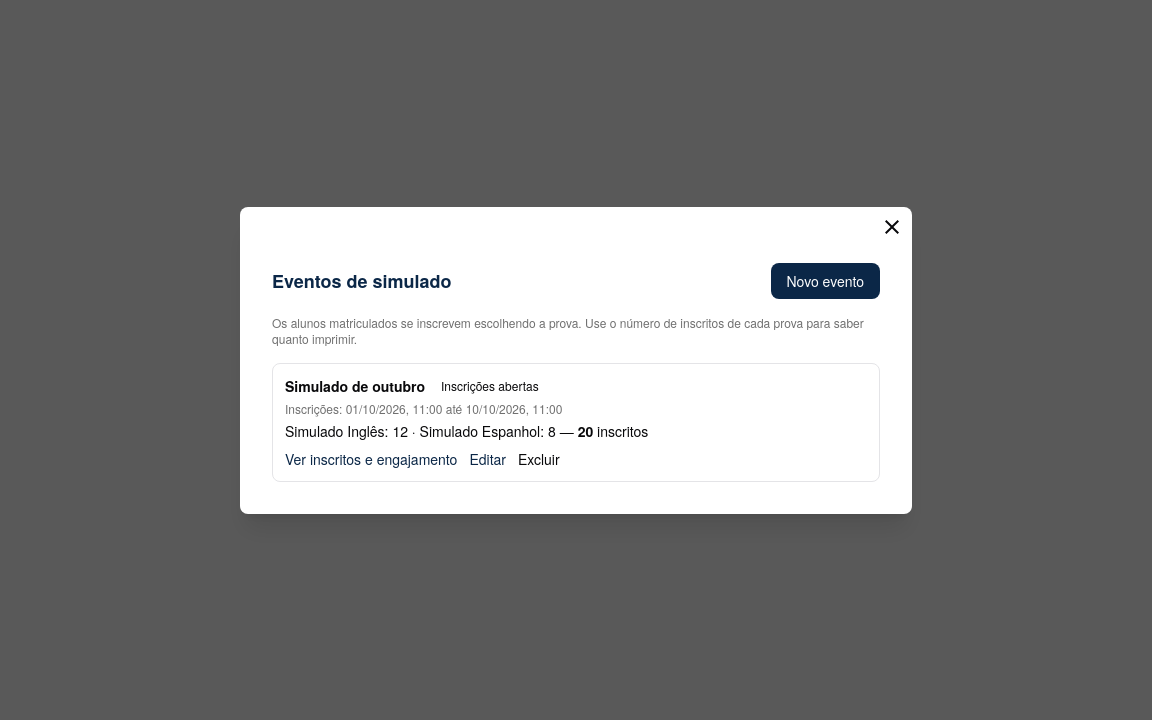
Scenario: Eventos de simulado na tela de provas (026 · 06) › janela invertida: avisa e o Salvar fica bloqueado
This screenshot has width=1152, height=720.
Click the button "Novo evento".
click(825, 280)  # box [770,262,880,298]
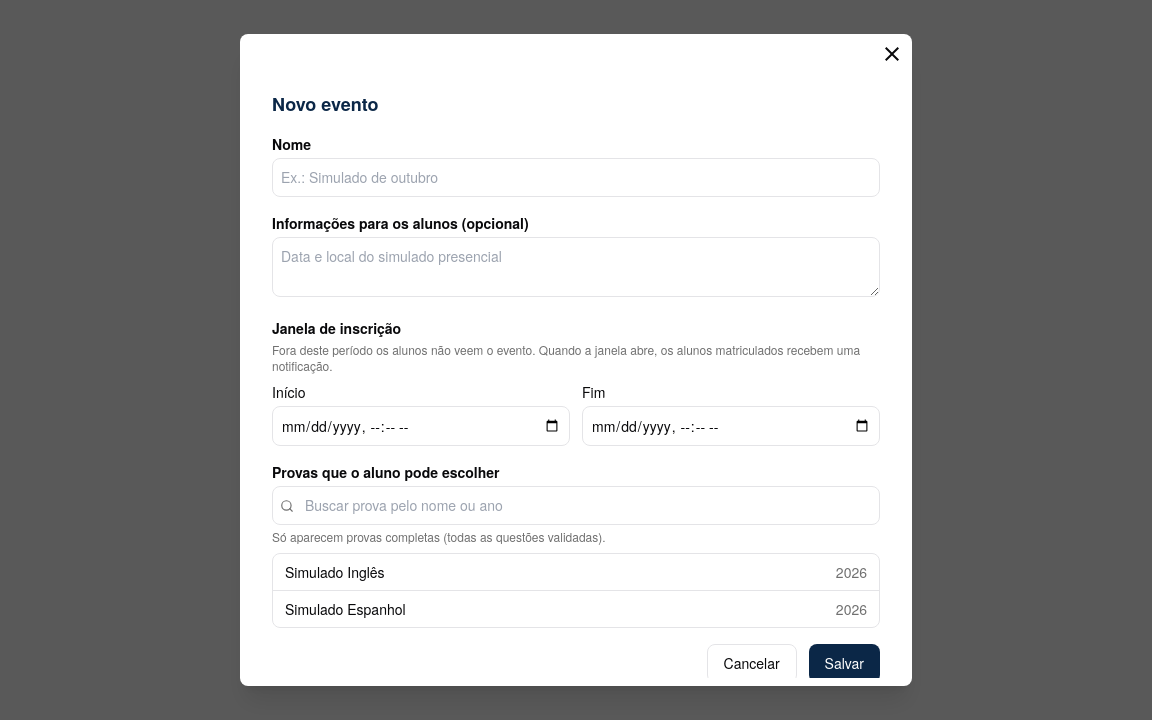
Type "2026-11-10T08:00" into the field named "Início das inscrições".
click(421, 426); type("2026-11-10T08:00")  # box [272,406,570,446]
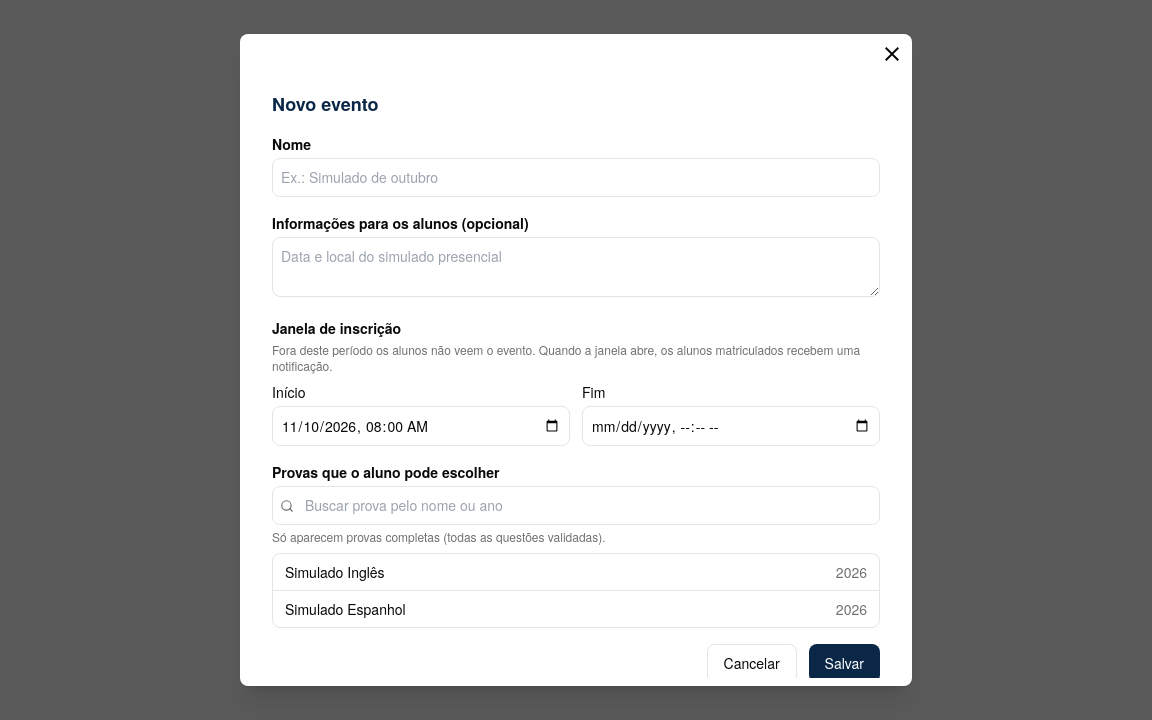
Type "2026-11-01T08:00" into the field named "Fim das inscrições".
click(731, 426); type("2026-11-01T08:00")  # box [582,406,880,446]
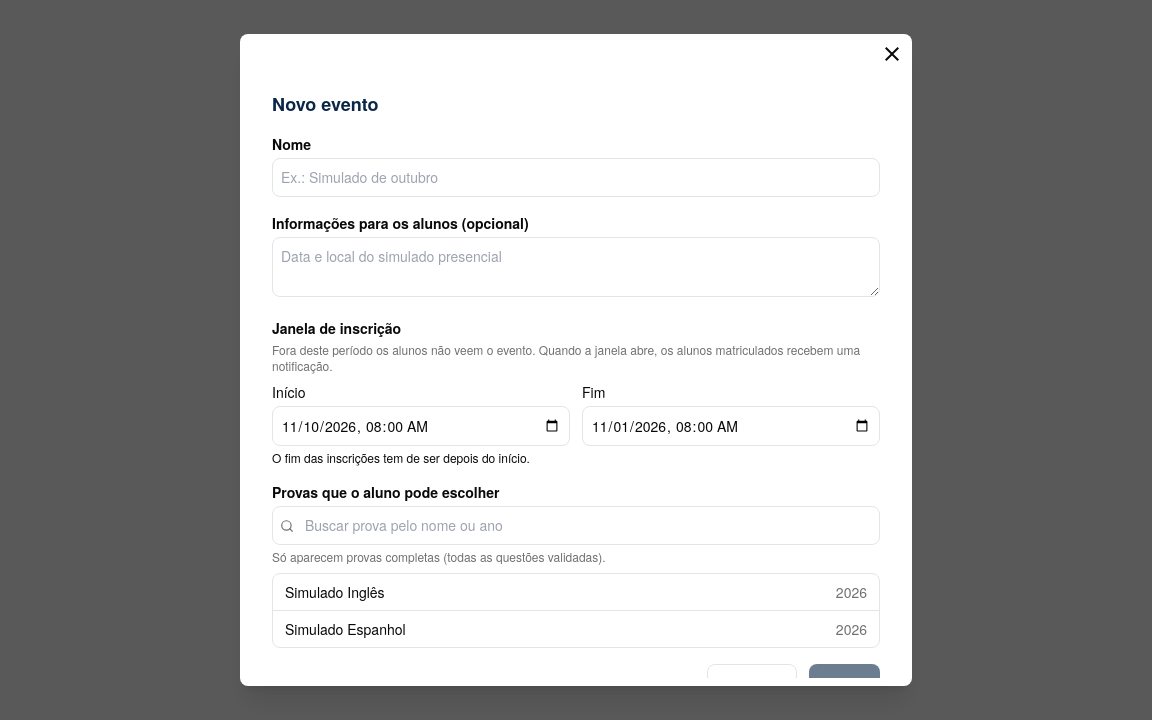
Expected: the message shows "depois do início", [272,449,530,466]
